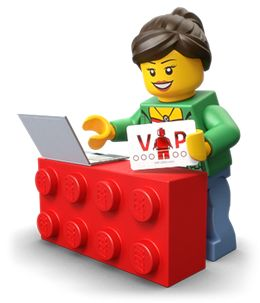lego: (77, 6, 247, 269)
